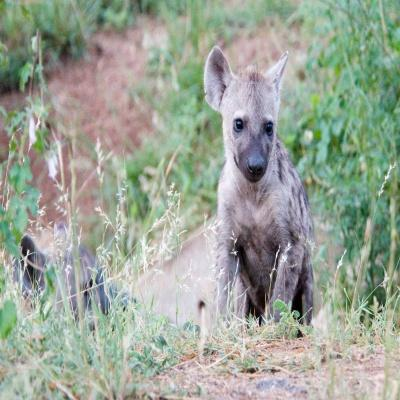hyenas: (147, 33, 367, 393)
